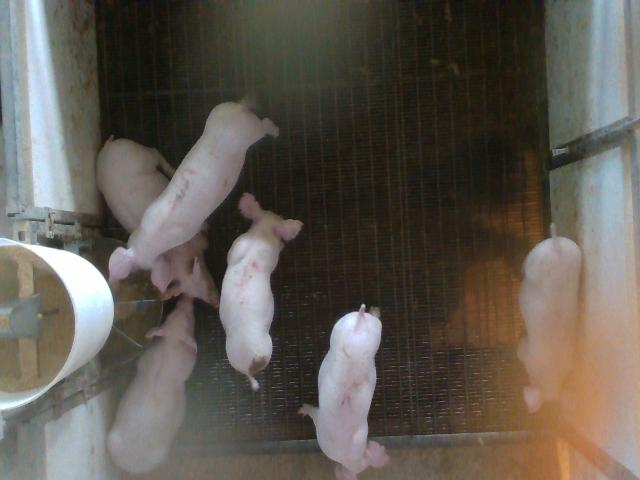pig-3: (109, 102, 279, 291)
pig-4: (518, 236, 582, 419)
pig-5: (219, 192, 302, 389)
